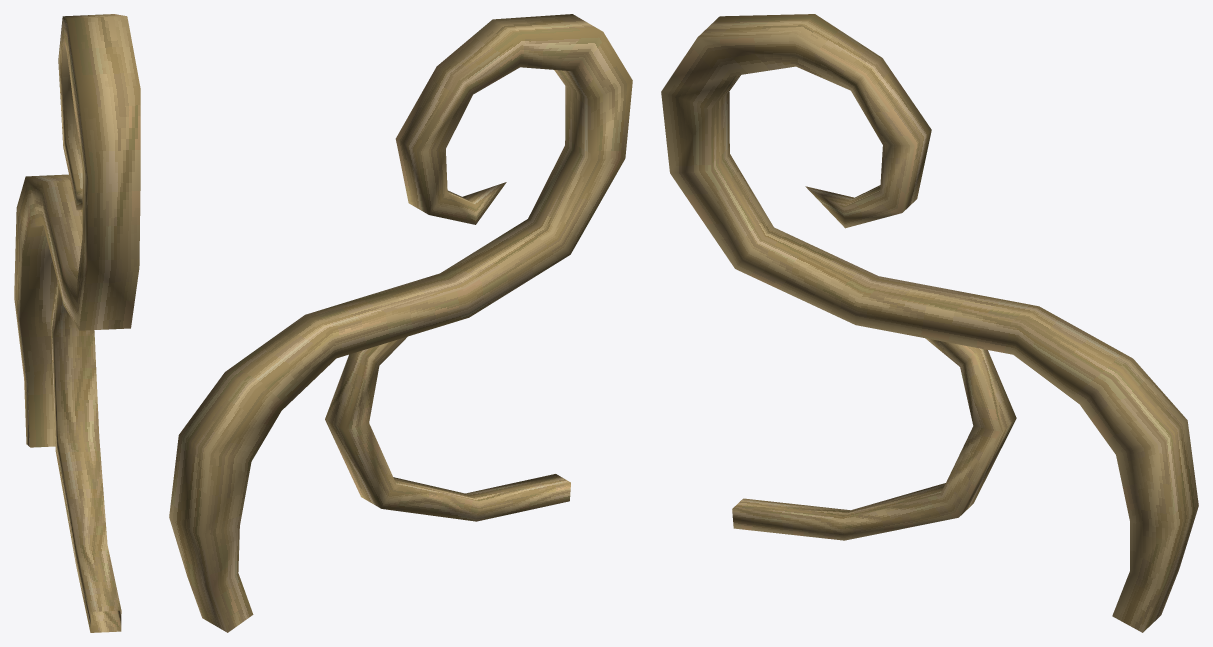
Rendered from EKH_BARRELROOM_PS_JA1_LOFT03.fbx.
3 renders of one model, left to right at view 1: azimuth 30°, elevation 25°; view 2: azimuth 150°, elevation 25°; view 3: azimuth 270°, elevation 25°, orthographic. The views are drawn at different scales.
Visible parts, largest first — view 1: EKH_BARRELROOM_PS_JA1_LOFT03; view 2: EKH_BARRELROOM_PS_JA1_LOFT03; view 3: EKH_BARRELROOM_PS_JA1_LOFT03.
Boxes of the visible parts, <box> form: EKH_BARRELROOM_PS_JA1_LOFT03: <box>14,14,140,632</box>; EKH_BARRELROOM_PS_JA1_LOFT03: <box>169,14,632,632</box>; EKH_BARRELROOM_PS_JA1_LOFT03: <box>661,14,1198,632</box>.
Bounding box in the file's own units: 5379 × 11415 × 10408.
1 material, 1 textured.
